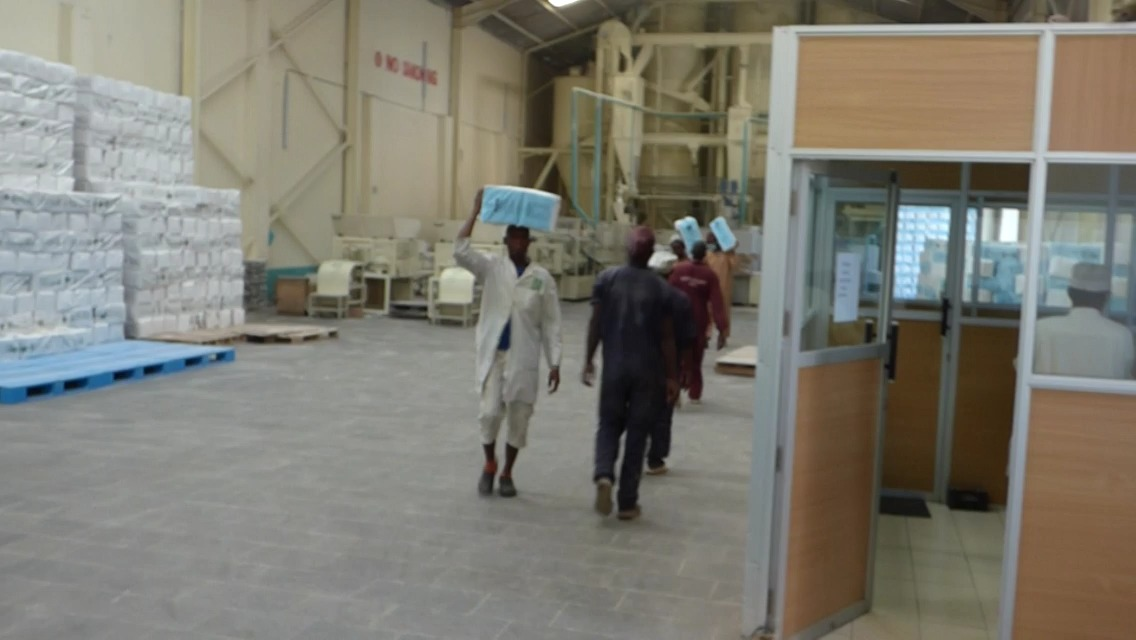wheat_flour_blue_label: (486, 184, 557, 236)
